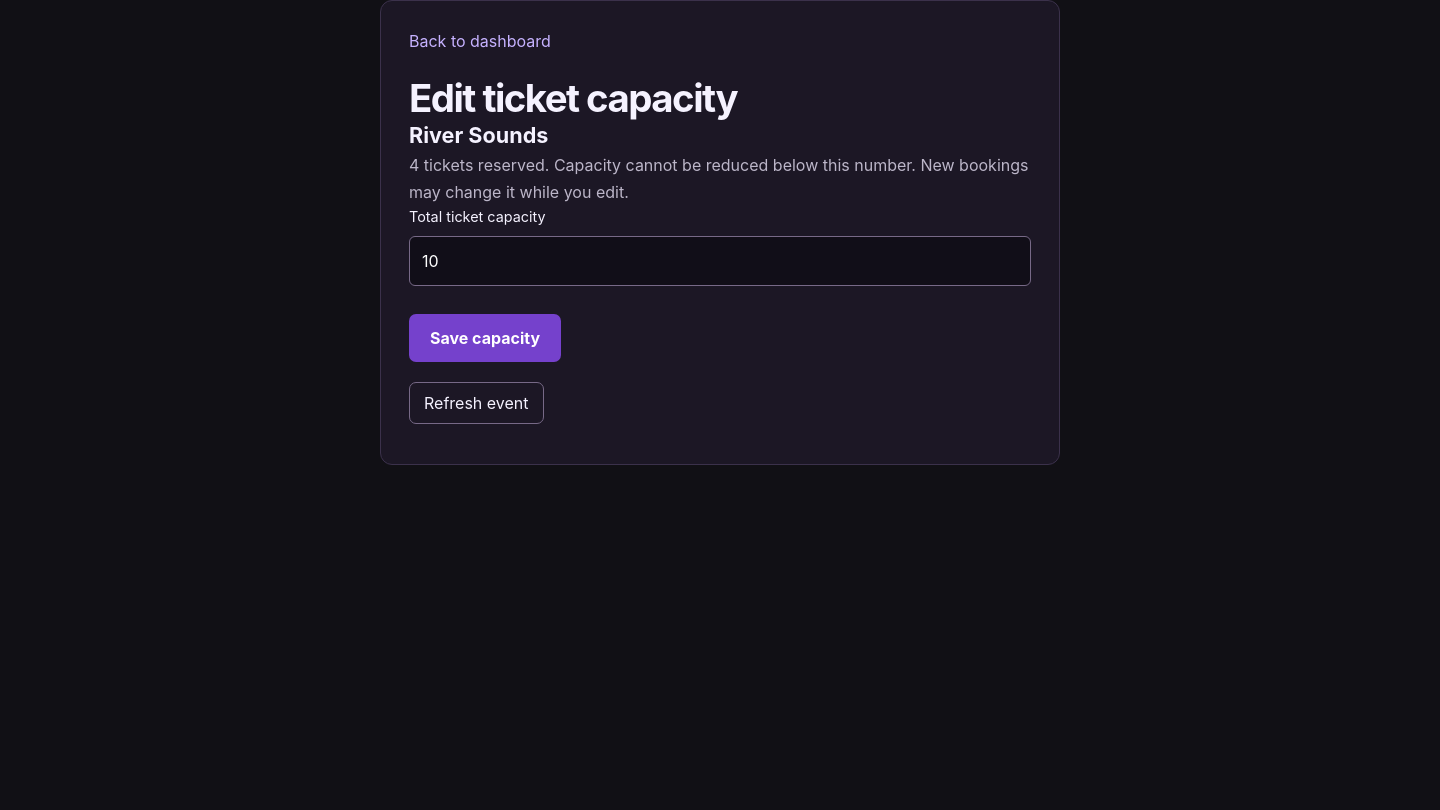
Test: sends only the new capacity and returns to a refreshed dashboard after success
Replace the text in the number field with id "capacity" with "12" at (720, 261), box [409, 236, 1031, 286]
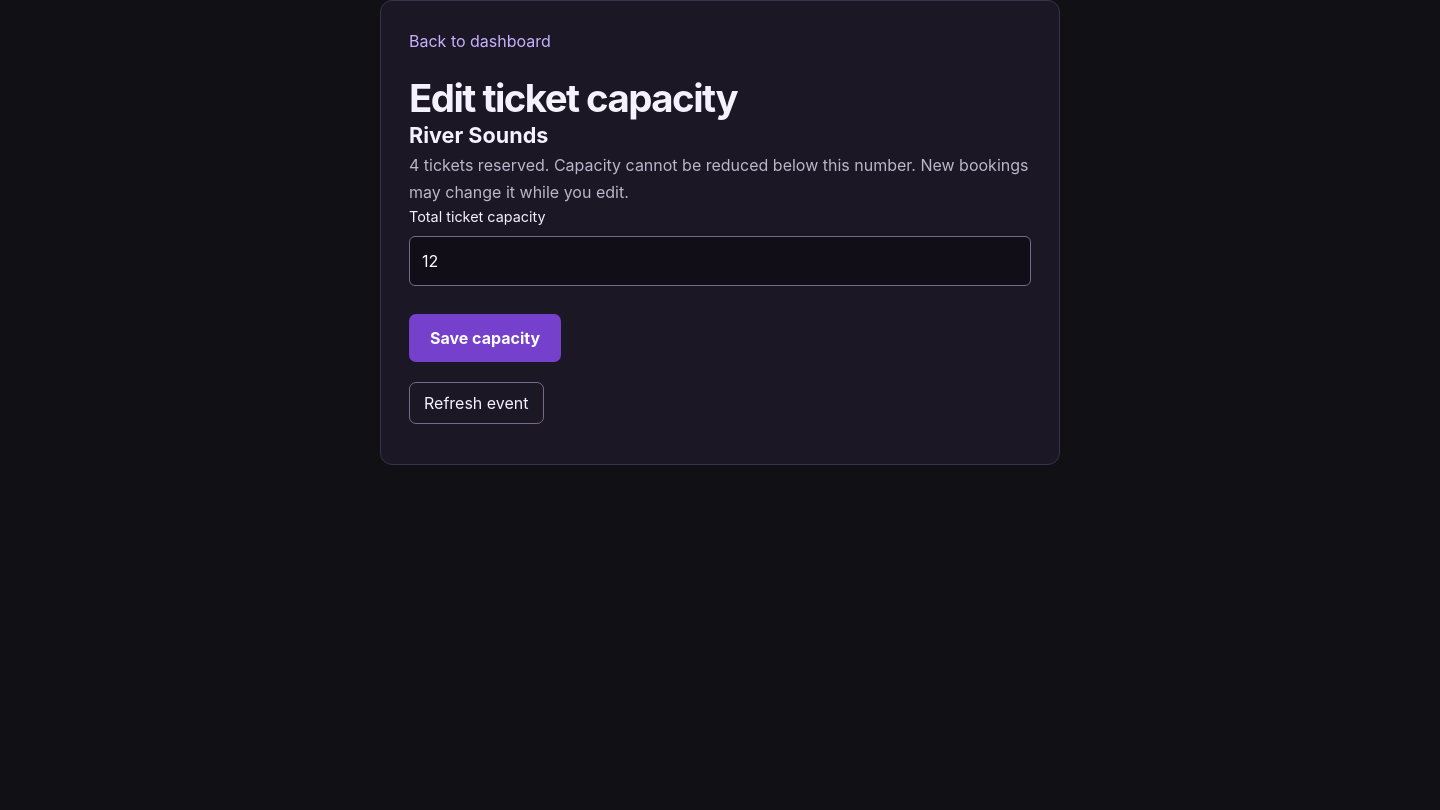
Submit the form, box [409, 119, 1031, 374]
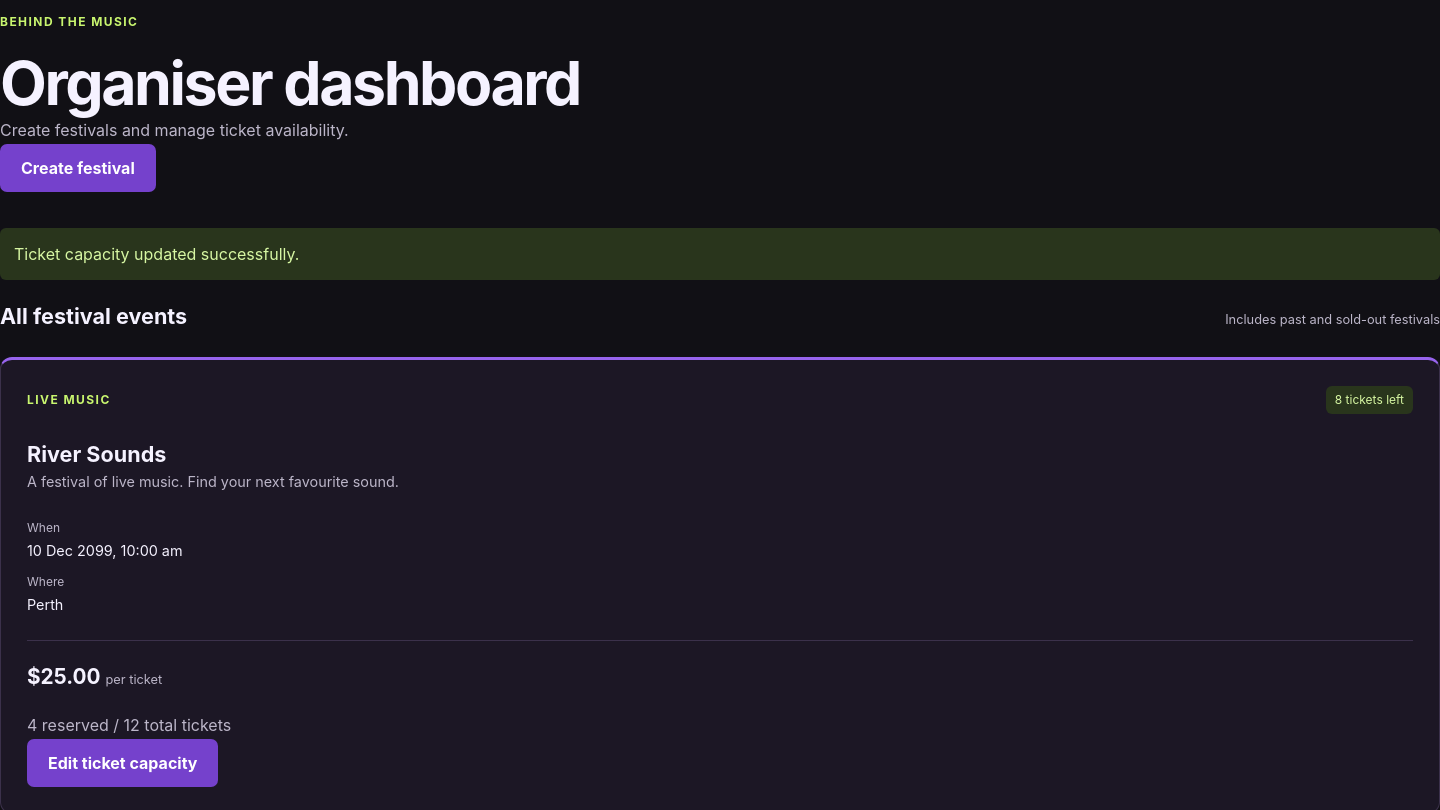
expect the text "Ticket capacity updated successfully" is shown: met, box [14, 244, 299, 264]
expect the text "8 tickets left" is shown: met, box [1326, 386, 1413, 414]
